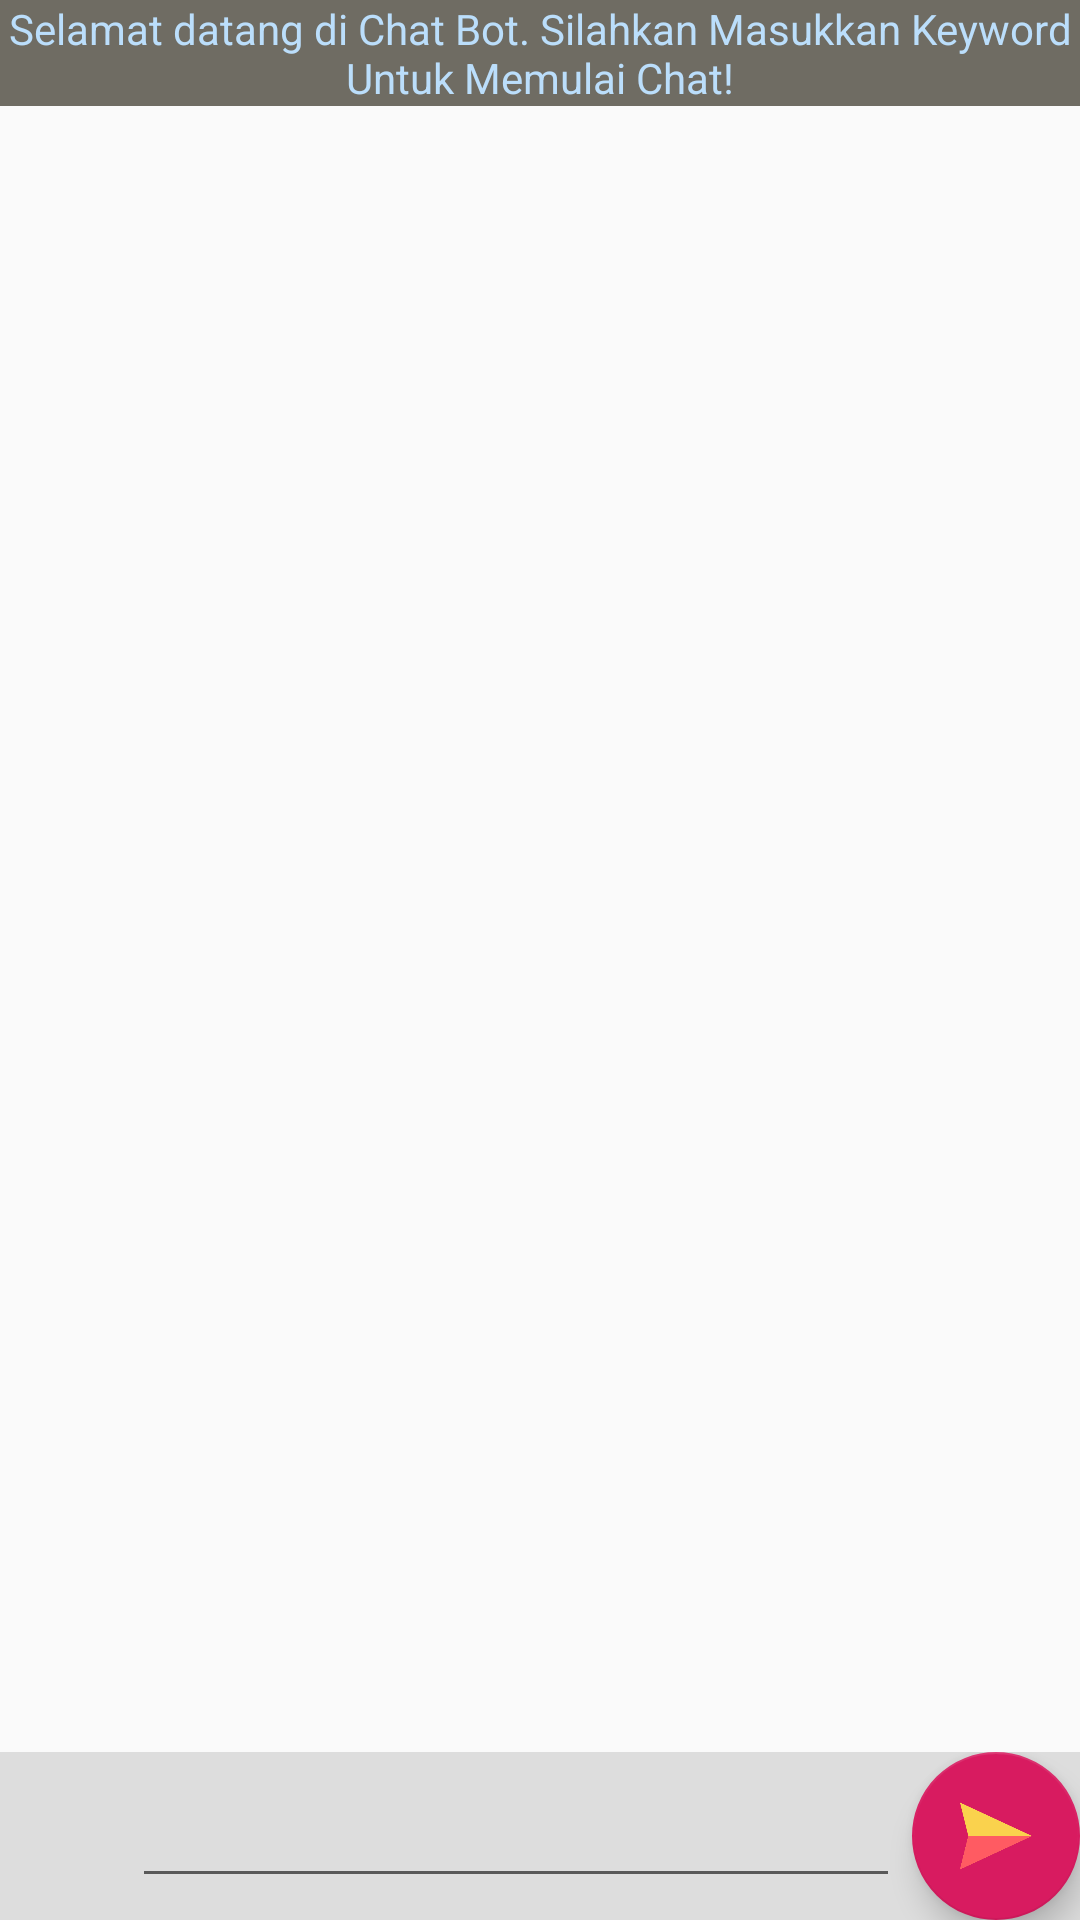

Icons on this 1080x1920 Android screen, each with the point to tap as [x,y]:
send: [996,1836]
